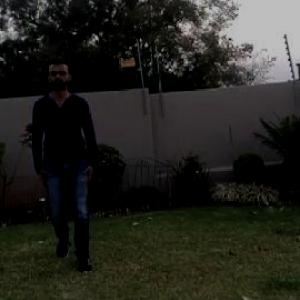follow: (32, 55, 99, 273)
